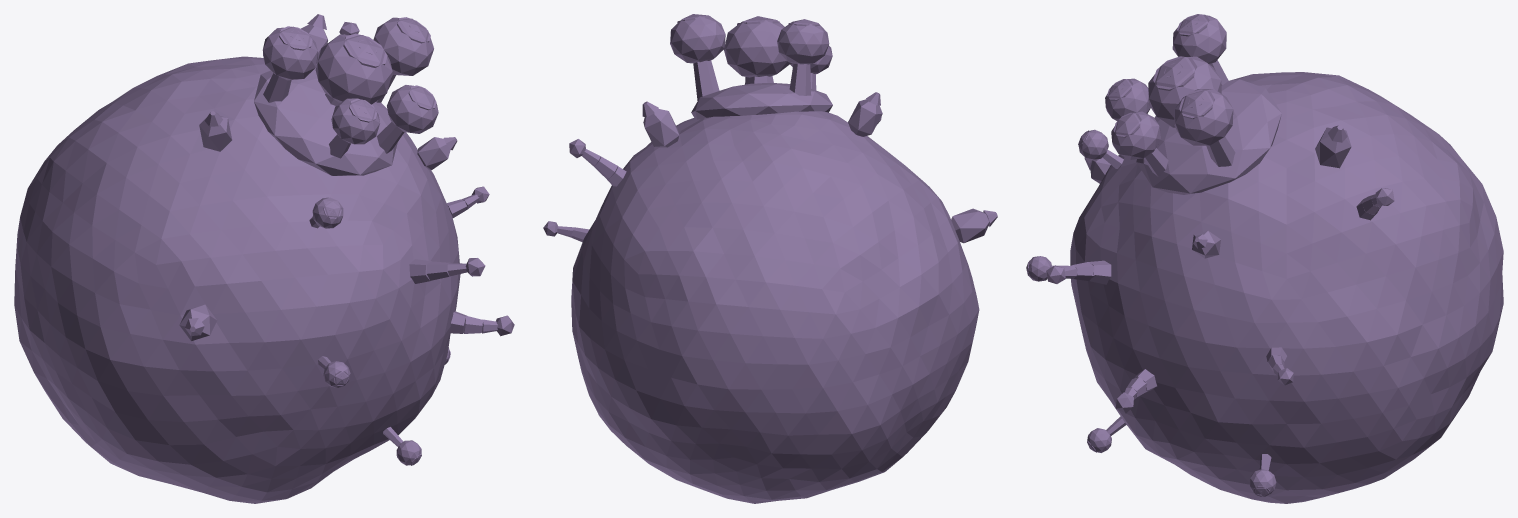
Rendered from Alien_06.fbx.
The picture shows the model from 3 angles, left to right: view 1: azimuth 30°, elevation 25°; view 2: azimuth 150°, elevation 25°; view 3: azimuth 270°, elevation 25°; orthographic projection. The views are drawn at different scales.
Parts seen in each view (by area): view 1: Alien_06; view 2: Alien_06; view 3: Alien_06.
Boxes of the visible parts, x1,y1,x2,y2 form: Alien_06: (14, 14, 514, 503); Alien_06: (543, 14, 997, 503); Alien_06: (1026, 14, 1503, 503).
Size of the model in its own units: 6.87 by 7.18 by 6.65.
